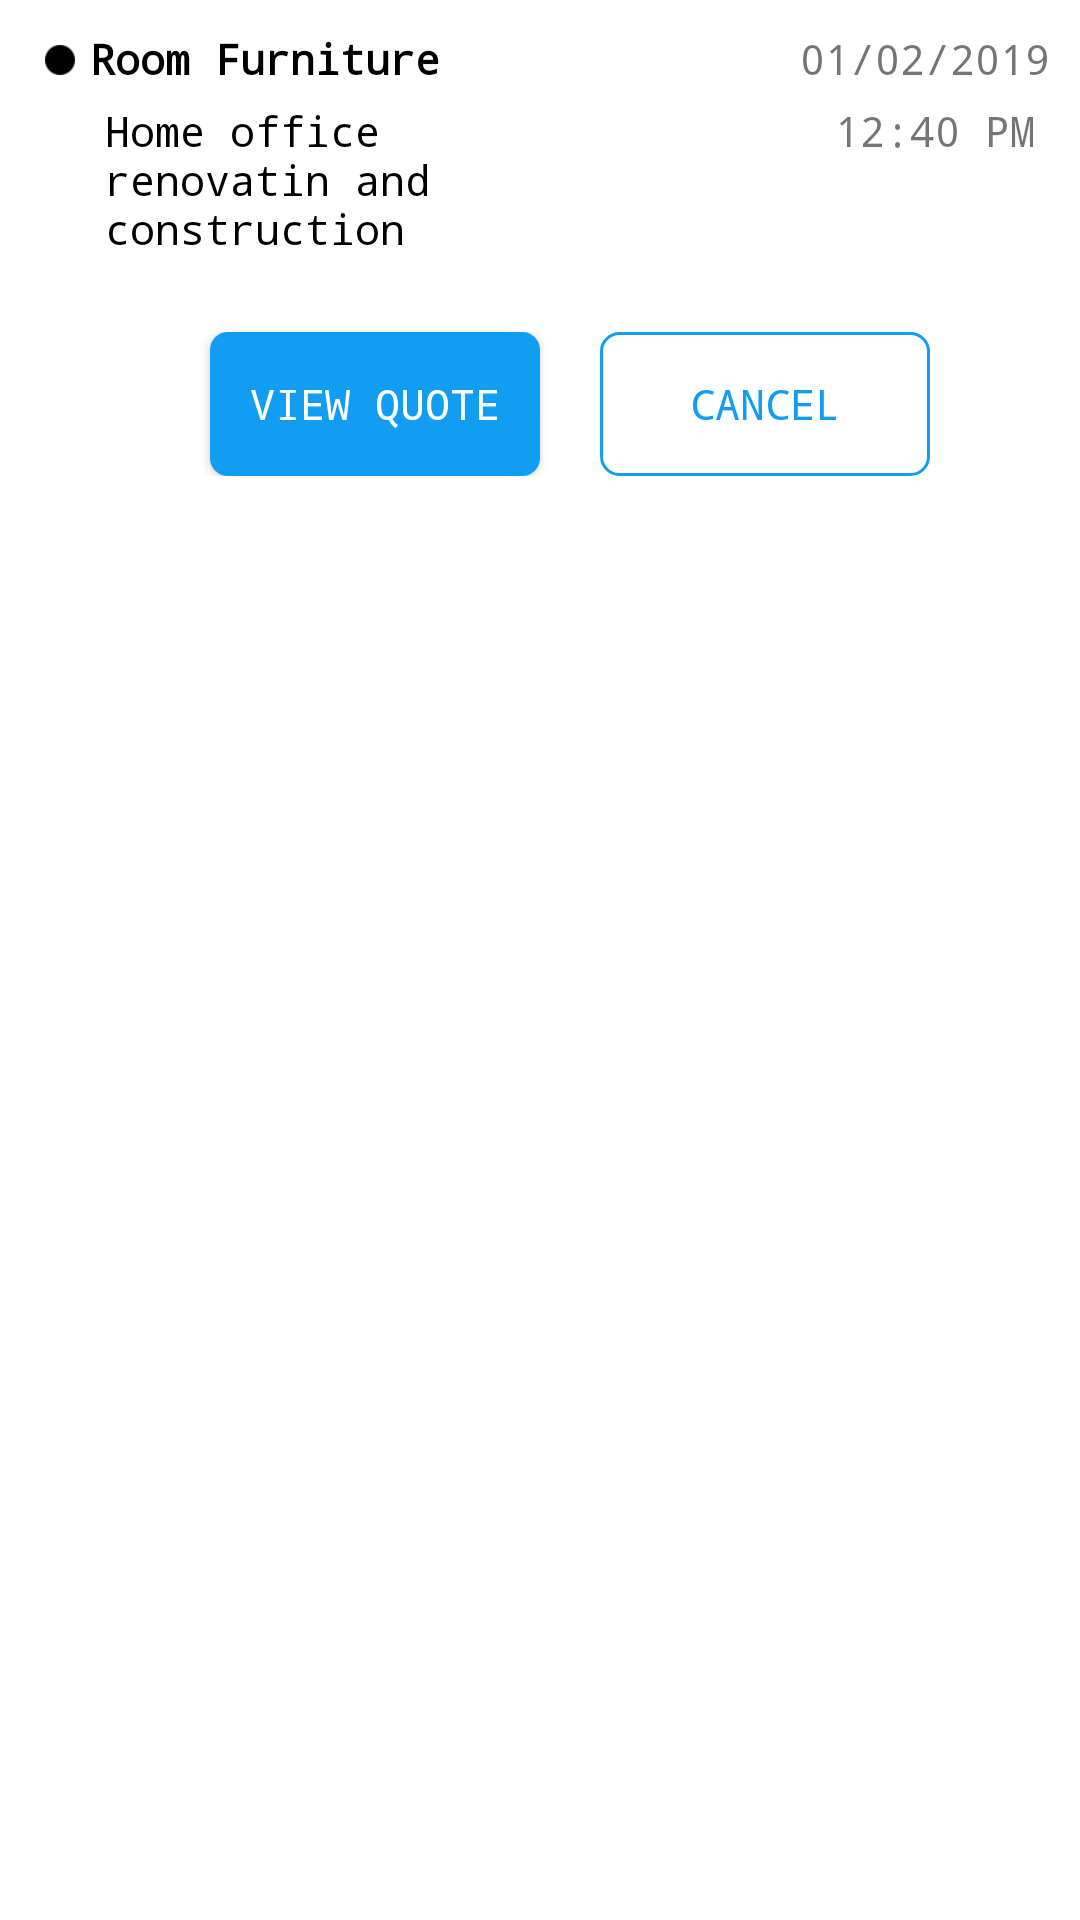

Screen size 1080×1920. Icon name, then its center in pixels as (x,y):
bullet: (60,60)
